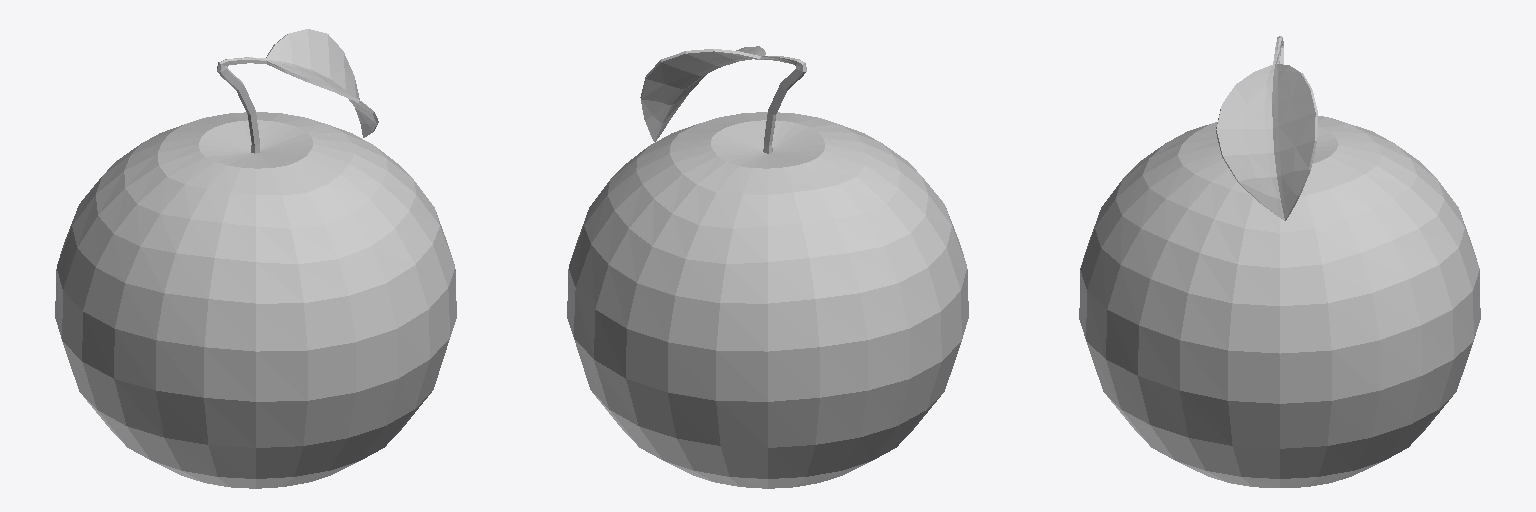
Rendered from Orange.obj.
3 renders of one model, left to right at view 1: azimuth 30°, elevation 25°; view 2: azimuth 150°, elevation 25°; view 3: azimuth 270°, elevation 25°, orthographic.
Visible parts, largest first — view 1: Orange; view 2: Orange; view 3: Orange.
Boxes of the visible parts, box(x1,y1,x2,y2) form: Orange: box(55, 29, 456, 488); Orange: box(567, 46, 968, 488); Orange: box(1079, 36, 1480, 487).
Size of the model in its own units: 1.34 by 1.5 by 1.34.